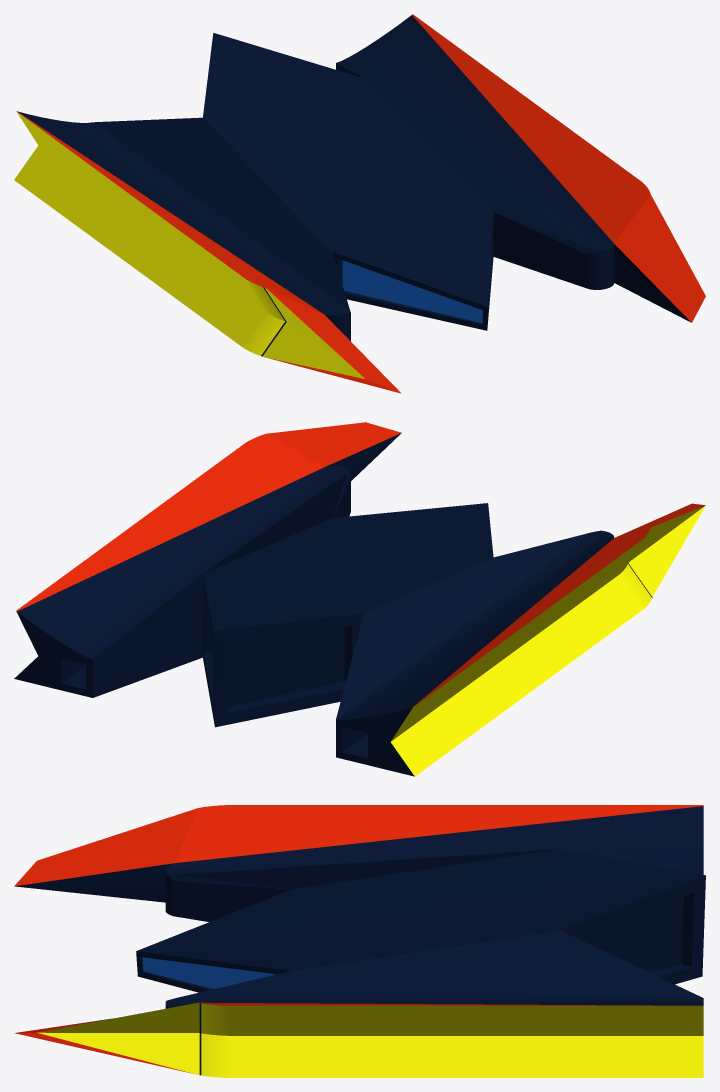
File: victory.fbx
3 renders of one model, top to bottom at view 1: azimuth 30°, elevation 25°; view 2: azimuth 150°, elevation 25°; view 3: azimuth 270°, elevation 25°, orthographic. The views are drawn at different scales.
Visible parts, largest first — view 1: mackica; view 2: mackica, Engine; view 3: mackica, Engine.
Boxes of the visible parts, <box> form: mackica: <box>14,14,705,393</box>; mackica: <box>14,422,705,776</box>; Engine: <box>225,627,344,707</box>; mackica: <box>14,805,705,1077</box>; Engine: <box>575,896,683,972</box>.
Size of the model in its own units: 2976 by 692 by 4290.
